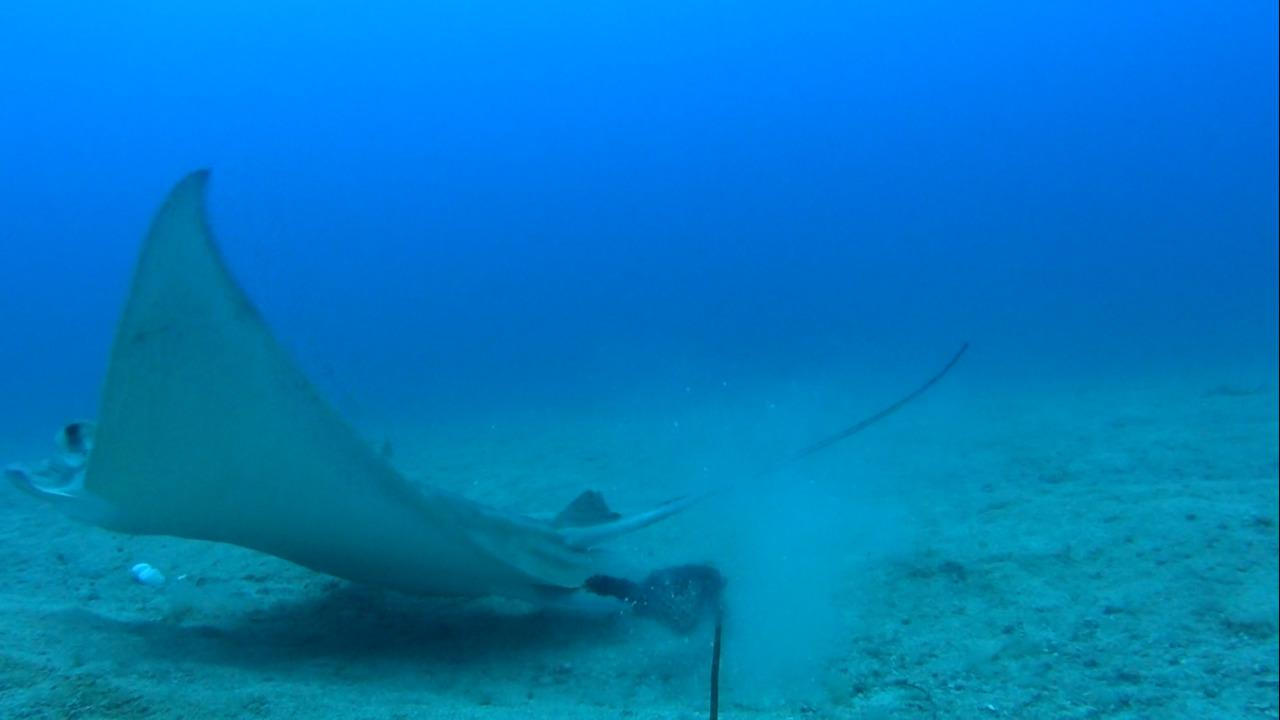myliobatis: (1, 155, 974, 607)
